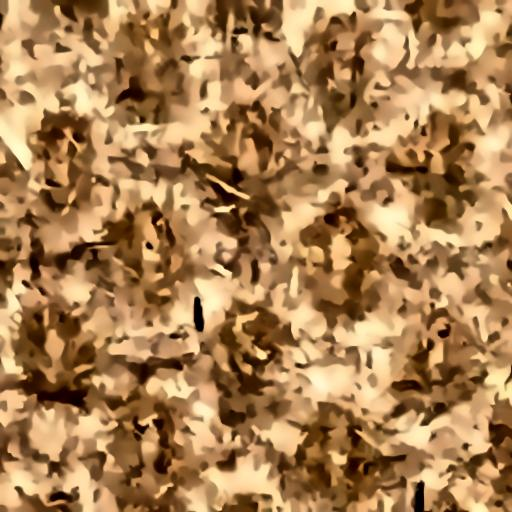egg: (180, 289, 210, 339), (406, 481, 441, 511)
